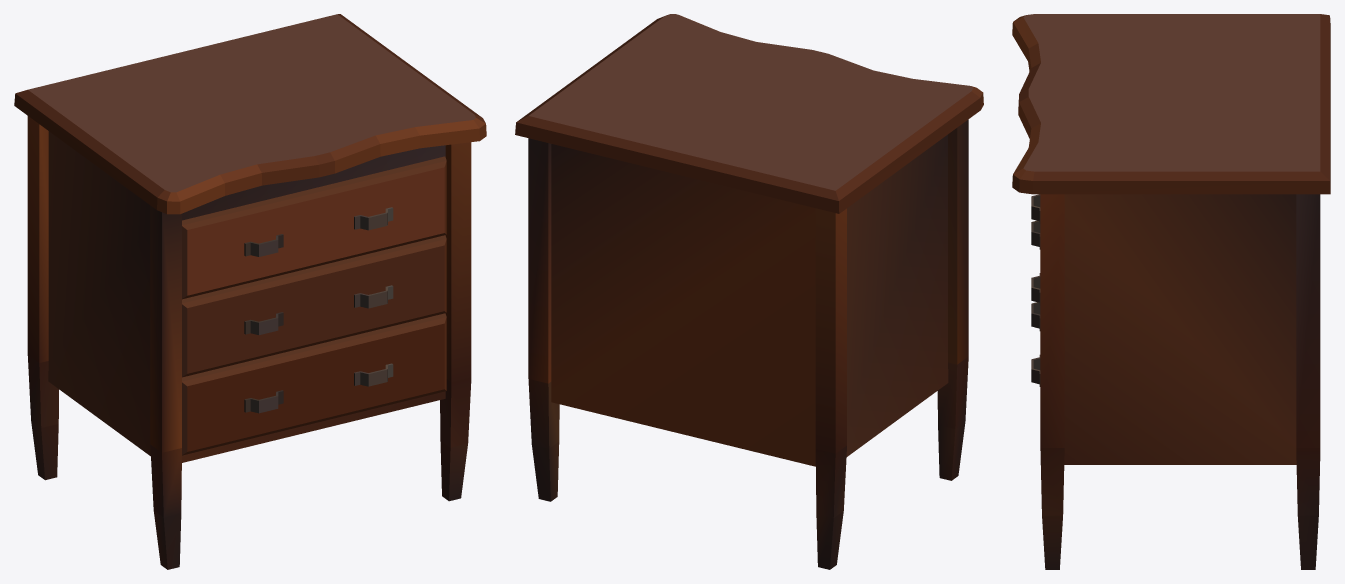
File: Furniture_EndTableA.fbx
3 views of the same model, side by side, from view 1: azimuth 30°, elevation 25°; view 2: azimuth 150°, elevation 25°; view 3: azimuth 270°, elevation 25° (orthographic). The views are drawn at different scales.
Parts seen in each view (by area): view 1: Furniture_EndTableA; view 2: Furniture_EndTableA; view 3: Furniture_EndTableA.
Boxes of the visible parts, <box> form: Furniture_EndTableA: <box>14,14,486,569</box>; Furniture_EndTableA: <box>515,14,983,569</box>; Furniture_EndTableA: <box>1012,14,1330,569</box>.
Bounding box in the file's own units: 97.61 × 110 × 79.02.
